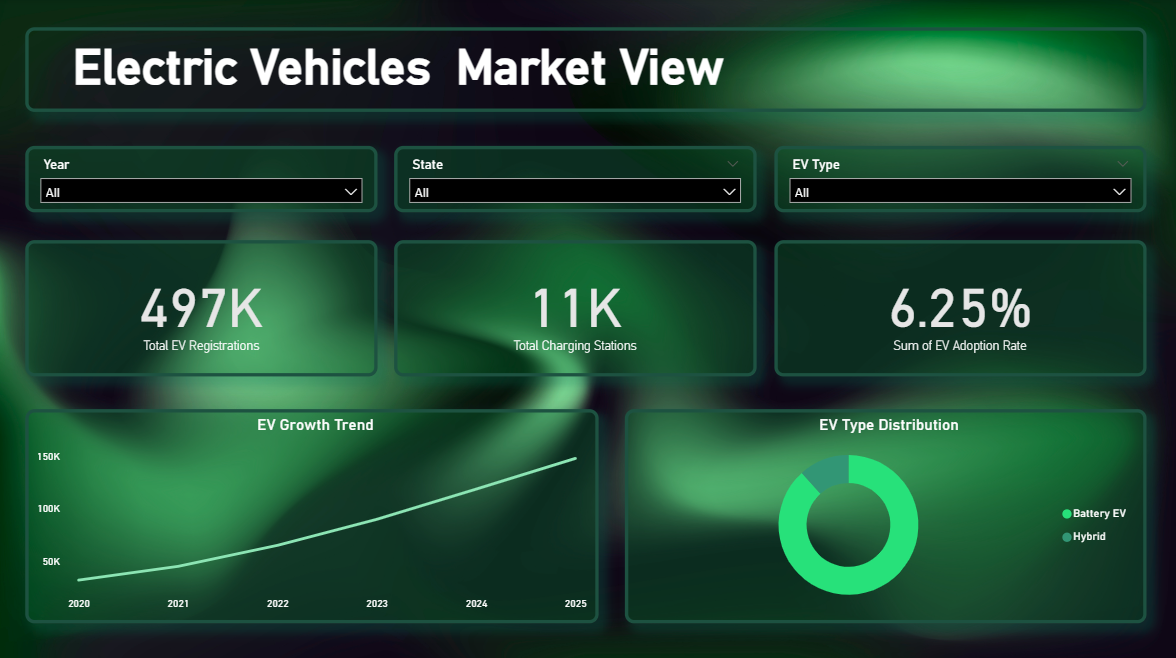

The dashboard page shown, as its layout file describes it:
{"tool":"powerbi","page":{"name":"EV Market View","canvas":[1280,720],"ordinal":0},"visuals":[{"type":"textbox","box":[31.7,31.7,1214,91.5],"z":0},{"type":"card","fields":{"Values":["Electric Vehicles.Total EV Registrations"]},"box":[31.7,262.2,381.8,147.8],"z":1000},{"type":"card","fields":{"Values":["Electric Vehicles.Total Charging Stations"]},"box":[431.1,262.2,392.4,147.8],"z":2000},{"type":"card","fields":{"Values":["Sum(Electric Vehicles.EV Adoption Rate)"]},"box":[842.8,262.2,402.9,147.8],"z":3000},{"type":"lineChart","title":"EV Growth Trend","fields":{"Category":["Electric Vehicles.Year"],"Y":["Sum(Electric Vehicles.EV Registrations)"]},"box":[31.7,445.1,621.1,232.2],"z":4000},{"type":"donutChart","title":"EV Type Distribution","fields":{"Category":["Electric Vehicles.EV Type"],"Y":["Sum(Electric Vehicles.EV Registrations)"]},"box":[680.9,445.1,564.8,232.2],"z":5000},{"type":"slicer","fields":{"Values":["Electric Vehicles.Year"]},"box":[31.7,160.1,381.8,72.1],"z":6000},{"type":"slicer","fields":{"Values":["Electric Vehicles.State"]},"box":[431.1,160.1,392.4,72.1],"z":7000},{"type":"slicer","fields":{"Values":["Electric Vehicles.EV Type"]},"box":[842.8,160.1,402.9,72.1],"z":8000}]}

Visuals, with their boxes in screenshot pixels (x1, y1, x2, y2), scaled from the page's 1280x720 canvas onto the 1176x658 screenshot:
textbox: bbox=(29, 29, 1144, 113)
card - Electric Vehicles.Total EV Registrations: bbox=(29, 240, 380, 375)
card - Electric Vehicles.Total Charging Stations: bbox=(396, 240, 757, 375)
card - Sum(Electric Vehicles.EV Adoption Rate): bbox=(774, 240, 1144, 375)
"EV Growth Trend" lineChart: bbox=(29, 407, 600, 619)
"EV Type Distribution" donutChart: bbox=(626, 407, 1144, 619)
slicer - Electric Vehicles.Year: bbox=(29, 146, 380, 212)
slicer - Electric Vehicles.State: bbox=(396, 146, 757, 212)
slicer - Electric Vehicles.EV Type: bbox=(774, 146, 1144, 212)
